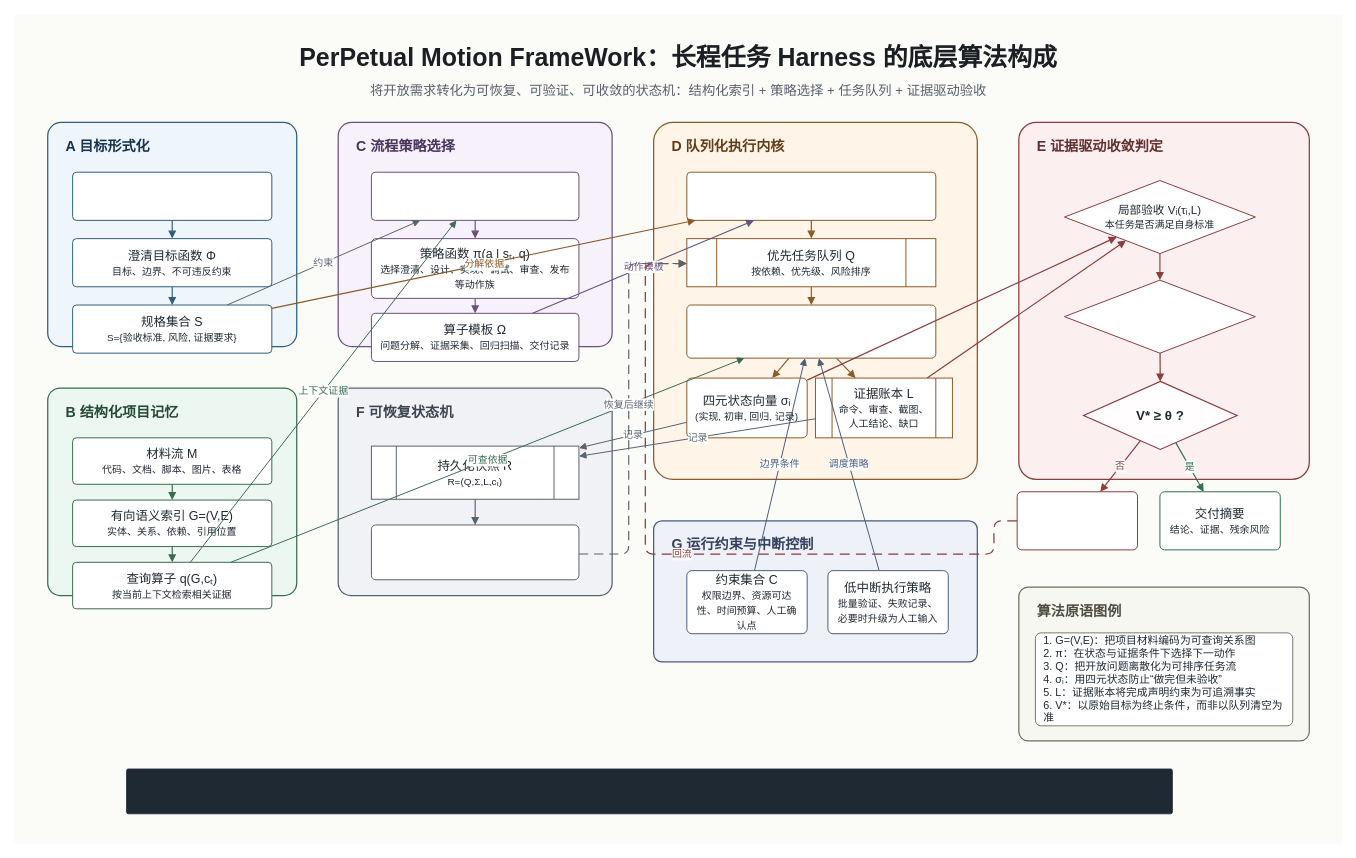
The diagram is 1356 pixels wide and 858 high, and some of its shapes have lost their labels. The shapes that lost their labels are listed below. From the top down, each one's box as (x1, y1, x2, y2) in pixels, then its label:
(72, 171, 272, 220): 需求输入 u 自然语言、文档、约束、现有状态
(371, 171, 579, 220): 状态观测 sₜ 任务类型、风险、已有证据、缺口
(686, 171, 936, 220): 任务分解 T={τᵢ} 每个子任务独立、可验证、可追踪
(686, 304, 936, 358): 执行循环 τ←pop(Q); a←π(...); o←act(τ,a)
(1064, 279, 1255, 353): 全局验收 V*(S,L) 原始目标、回归面、未证实项
(1016, 491, 1138, 550): 追加任务 τₙ₊₁ 缺口、风险、未验证项回流
(371, 524, 579, 580): 恢复算子 ρ(R) 定位首个未完成 τ；重建上下文；继续循环
(126, 768, 1172, 814): 核心循环：while Q≠∅ → 执行 τᵢ → 更新 σᵢ 与 L → 局部验收 → 全局验收 → 缺口回流或交付
